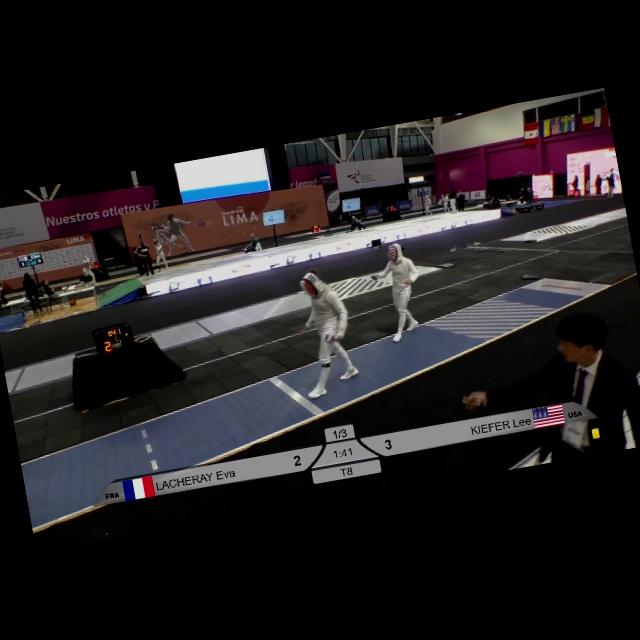blade: (362, 272, 381, 302)
